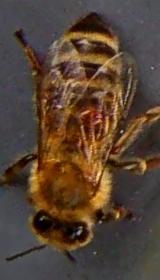varroa_mite: (80, 100, 104, 128)
